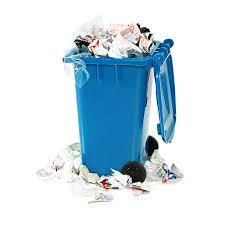trash: (63, 18, 163, 62), (30, 132, 83, 192), (74, 163, 148, 205), (145, 148, 184, 186)
trash_can_overflow: (26, 5, 203, 209)
